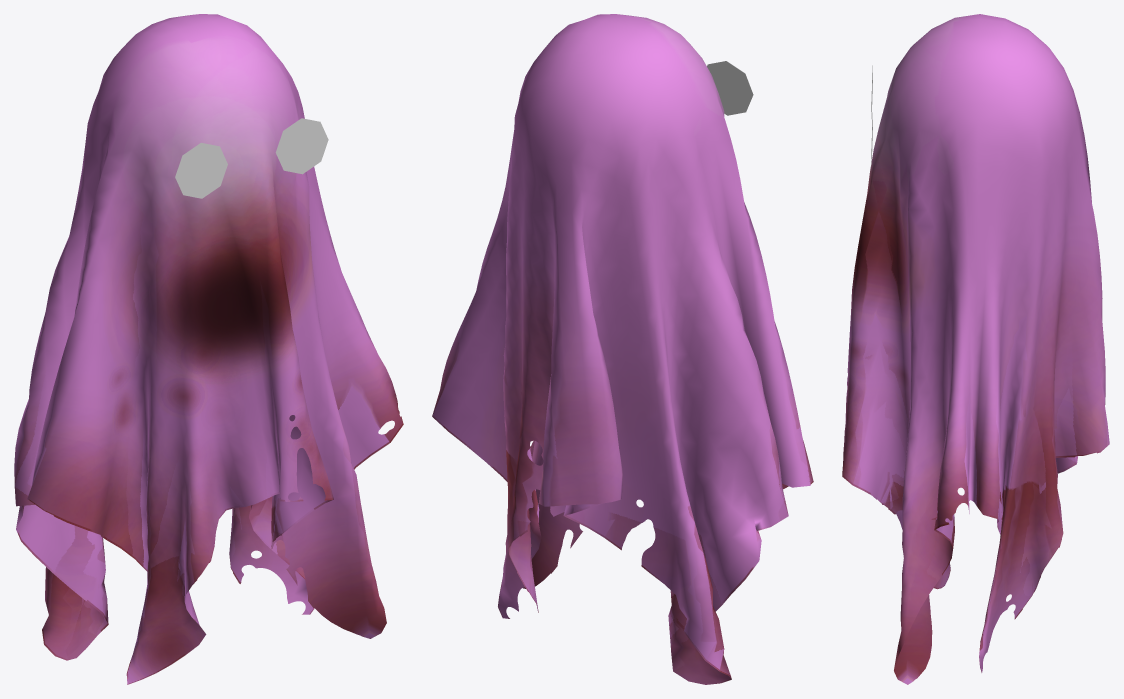
The model's file is pinky.fbx.
3 views of the same model, side by side, from view 1: azimuth 30°, elevation 25°; view 2: azimuth 150°, elevation 25°; view 3: azimuth 270°, elevation 25° (orthographic). The views are drawn at different scales.
Visible parts, largest first — view 1: Plane, Plane.001; view 2: Plane, Plane.001; view 3: Plane.
Part boxes in pixels (x1=…): Plane: x1=14, y1=14, x2=403, y2=684; Plane.001: x1=175, y1=118, x2=328, y2=198; Plane: x1=432, y1=14, x2=813, y2=684; Plane.001: x1=707, y1=61, x2=753, y2=115; Plane: x1=842, y1=14, x2=1109, y2=684.
Size of the model in its own units: 447 by 719 by 291.
